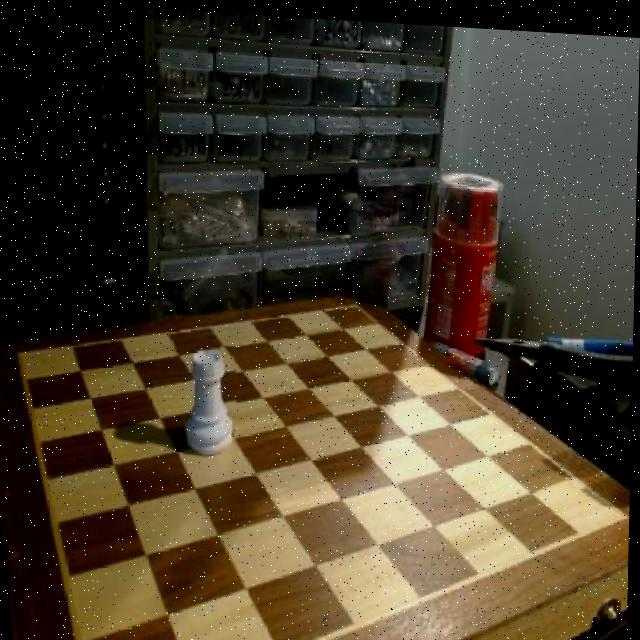white-queen: (175, 342, 239, 453)
